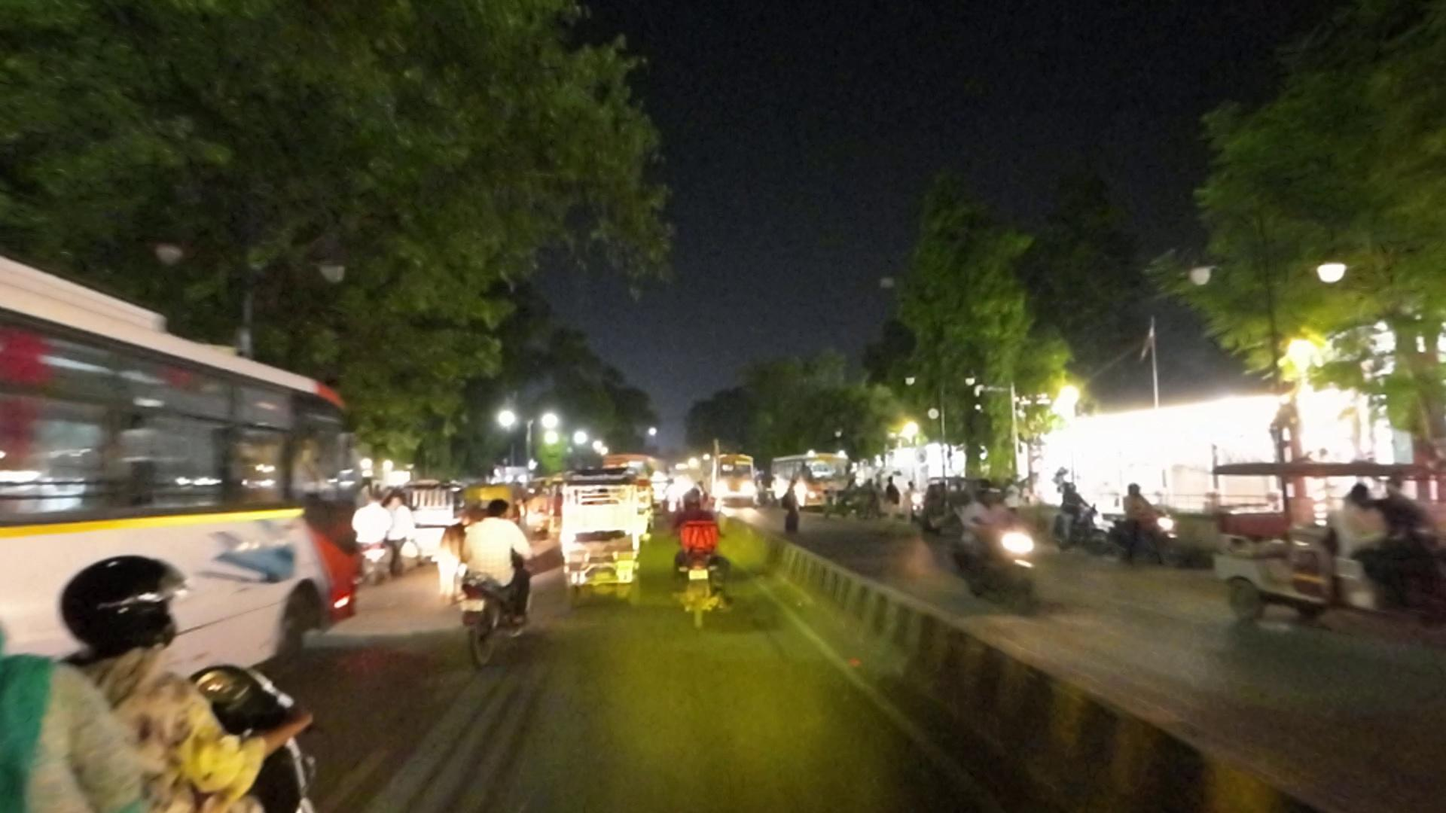streetlight: (1182, 225, 1223, 308), (147, 211, 197, 272), (320, 234, 360, 299)
